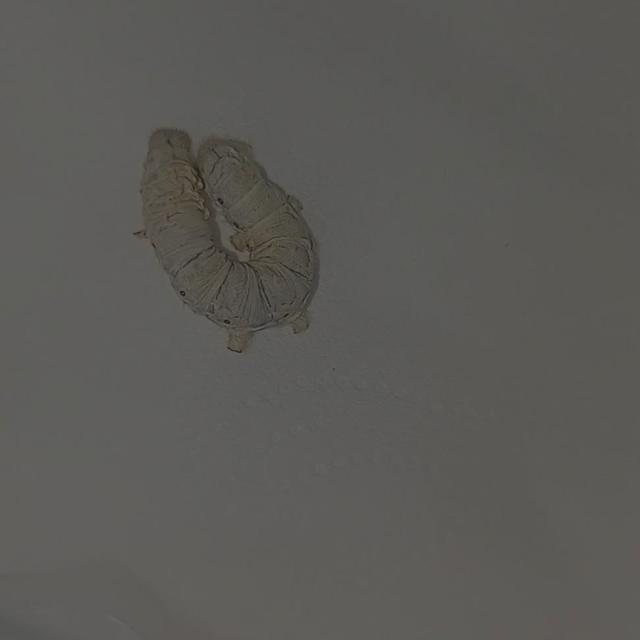Healthy: (112, 96, 350, 368)
